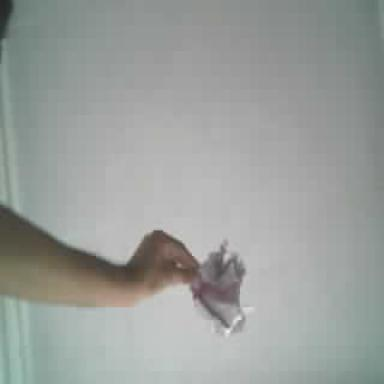paper: (191, 242, 246, 331)
